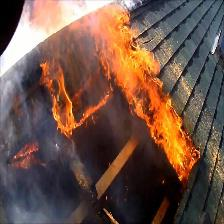fire: (24, 3, 201, 183)
